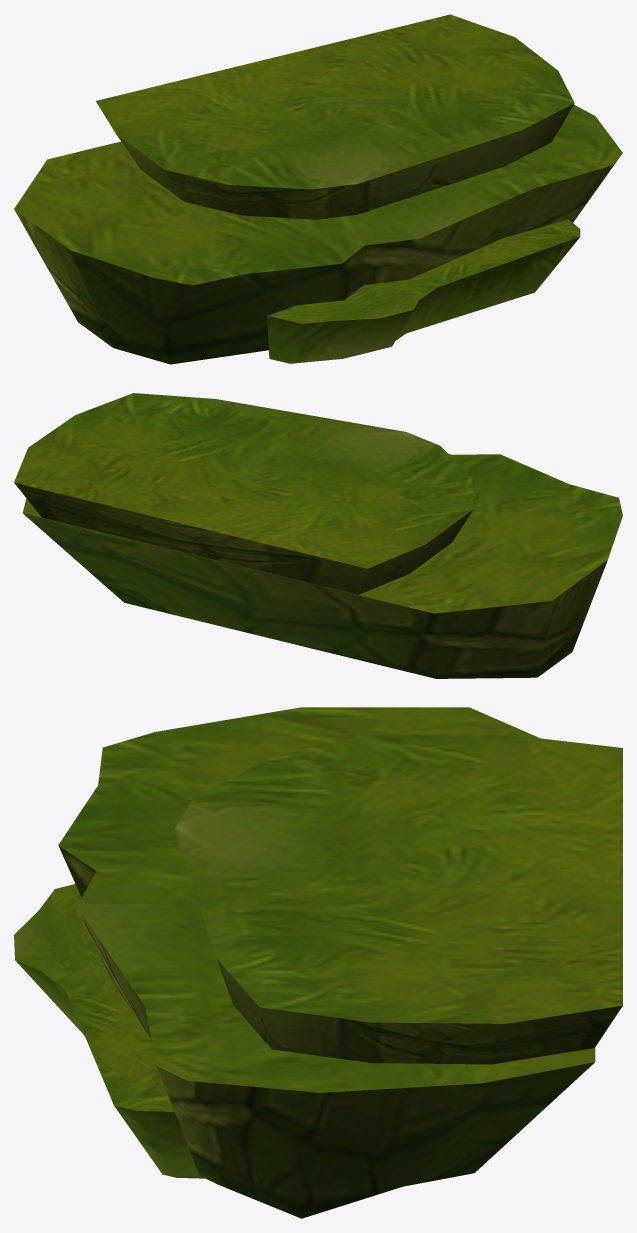
File: stone09.fbx
3 views of the same model, one above another, from view 1: azimuth 30°, elevation 25°; view 2: azimuth 150°, elevation 25°; view 3: azimuth 270°, elevation 25° (orthographic). The views are drawn at different scales.
Visible parts, largest first — view 1: stone09; view 2: stone09; view 3: stone09.
Part boxes in pixels (x1,y1,x2,y2): stone09: (14,14,622,364); stone09: (14,393,622,678); stone09: (14,707,622,1218).
Size of the model in its own units: 931 by 247 by 621.
